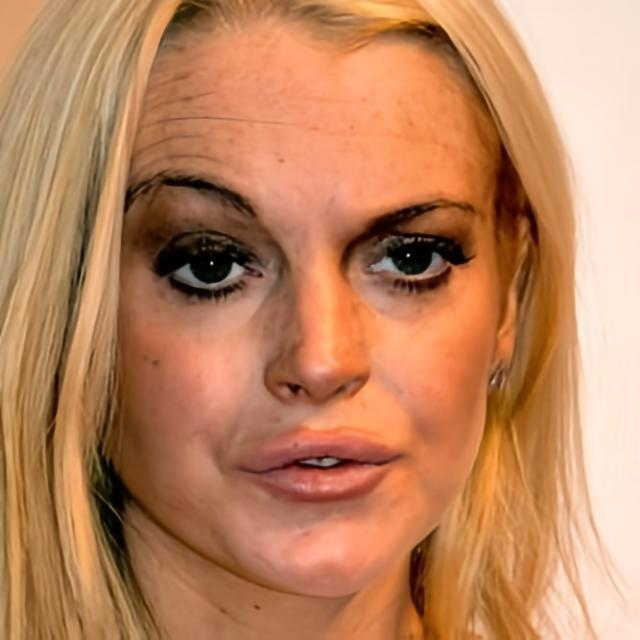neutral: (103, 5, 500, 602)
